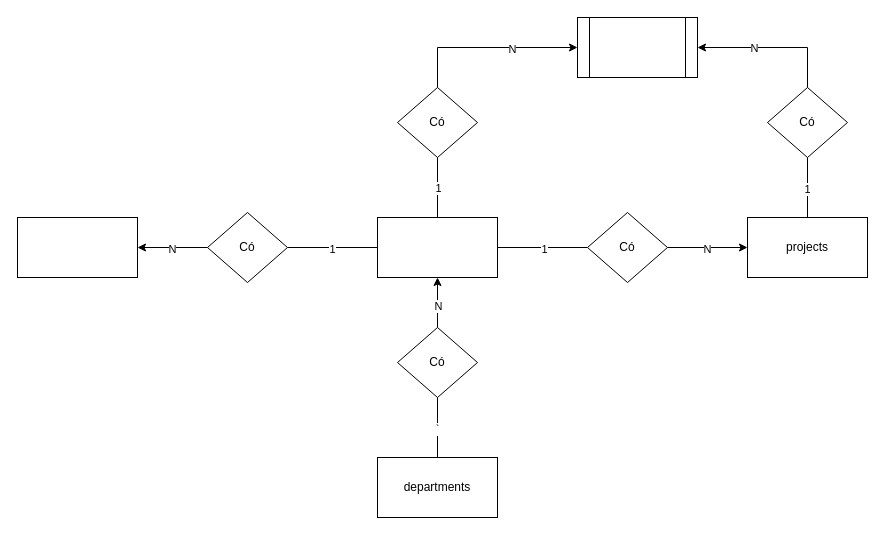
Some shapes in this 885 by 535 pixel diagram are drawn without their labels. Each missing label, with the centre of its shape:
"employees" goes at point 437,247.
"timesheets" goes at point 637,47.
"workReports" goes at point 77,247.
